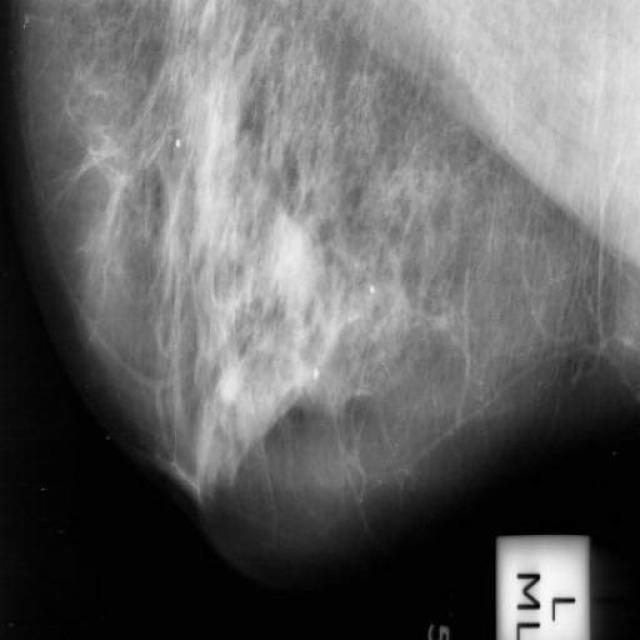cancer: (146, 136, 204, 288)
